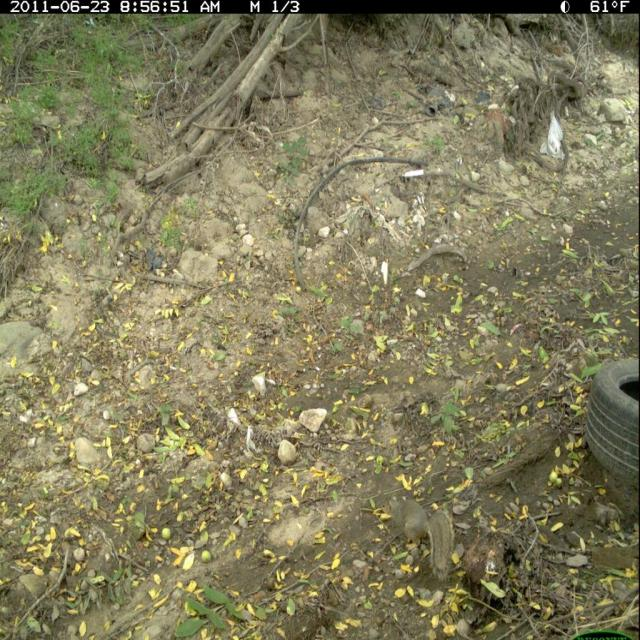squirrel: (379, 491, 457, 586)
